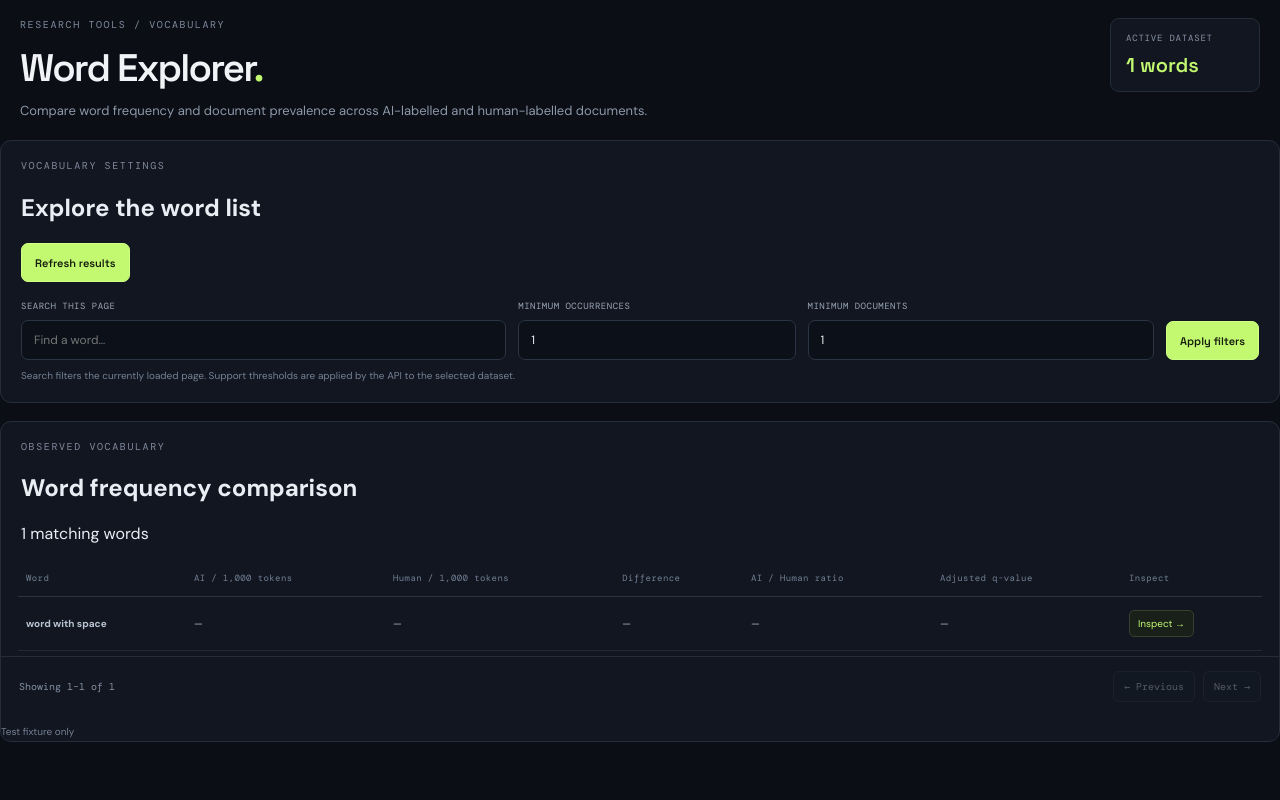
Test: WordExplorer word report API › sends the dataset token and displays an API error when a word report fails
This screenshot has width=1280, height=800.
Click the button "Inspect →" at (1162, 624), box [1129, 610, 1194, 637]
(page scrolled)
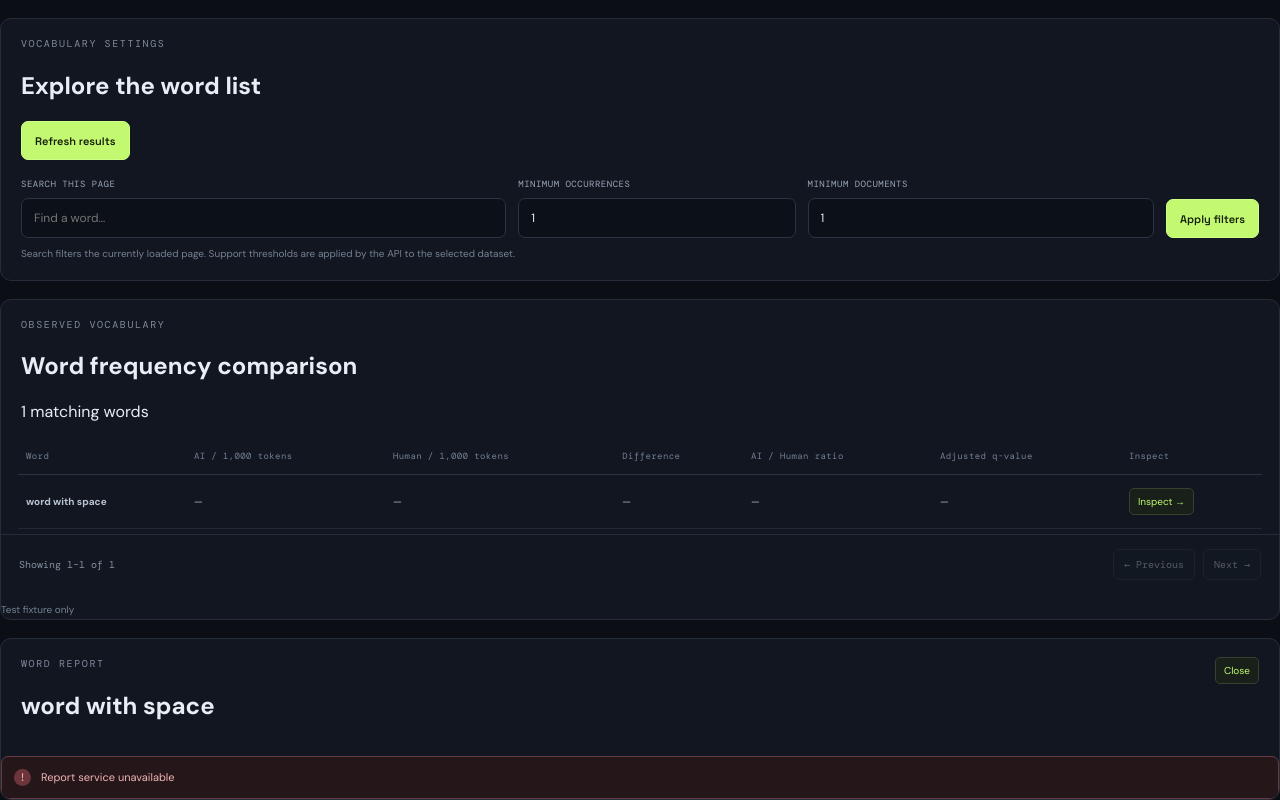
Expected: the message shows "Report service unavailable", [41, 770, 174, 784]
